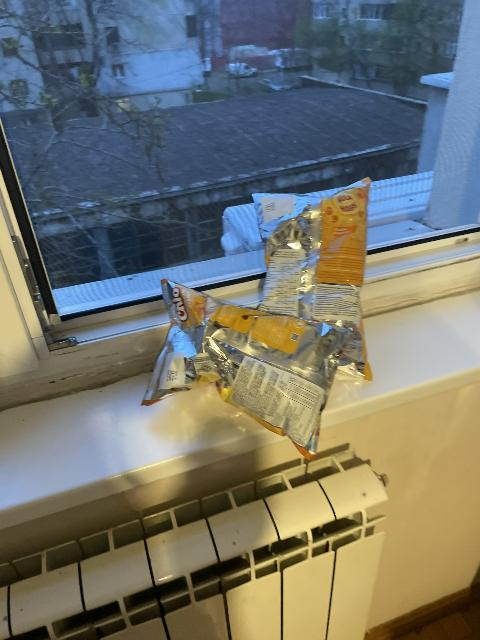Chio Cascaval 125g: (138, 278, 358, 464)
Chio Hula Hoops Cheese 70g: (250, 176, 371, 386)
